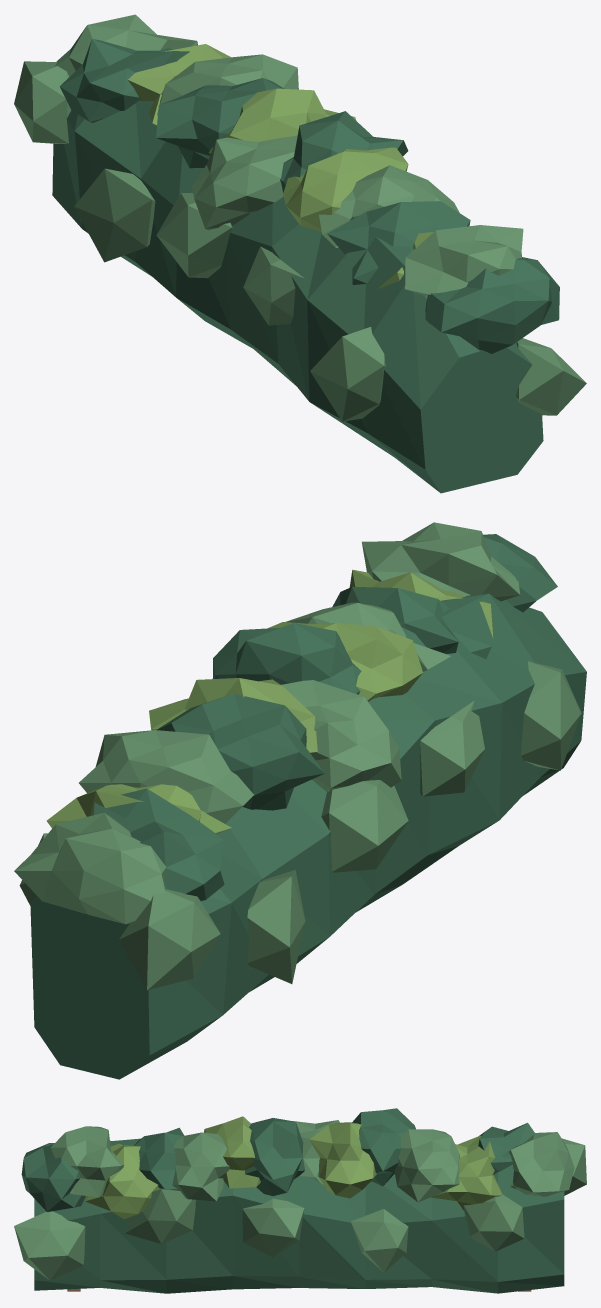
File: PLANT_04.obj
3 views of the same model, one above another, from view 1: azimuth 30°, elevation 25°; view 2: azimuth 150°, elevation 25°; view 3: azimuth 270°, elevation 25° (orthographic). The views are drawn at different scales.
Parts seen in each view (by area): view 1: leaf_masses, hedge_body, side_masses; view 2: leaf_masses, hedge_body, side_masses; view 3: hedge_body, leaf_masses, side_masses.
Part boxes in pixels (bbox=[...]): leaf_masses: bbox=[55, 14, 559, 353]; hedge_body: bbox=[52, 47, 543, 493]; side_masses: bbox=[14, 61, 586, 421]; leaf_masses: bbox=[14, 522, 557, 924]; hedge_body: bbox=[30, 593, 586, 1079]; side_masses: bbox=[19, 661, 581, 990]; hedge_body: bbox=[34, 1138, 564, 1293]; leaf_masses: bbox=[21, 1108, 574, 1219]; side_masses: bbox=[14, 1138, 586, 1280].
Bounding box in the file's own units: 1.28 × 1.47 × 4.32.
